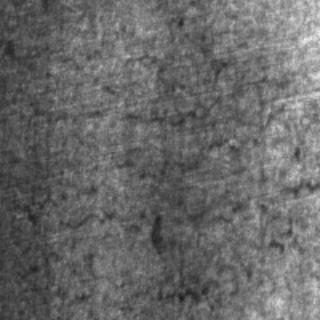crazing: (22, 53, 248, 229)
